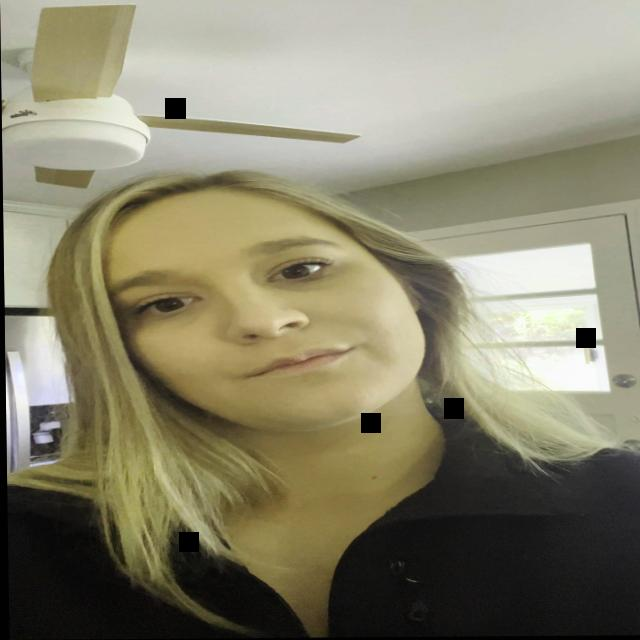NO-Mask: (78, 172, 443, 453)
